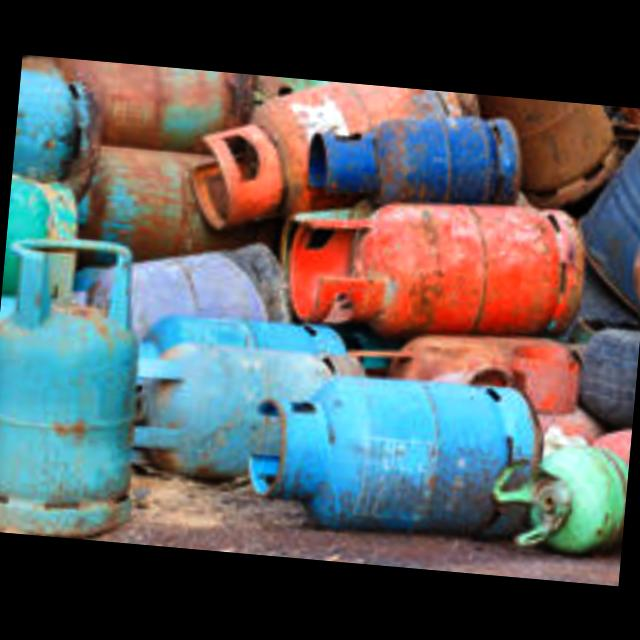Cylinders: (285, 205, 589, 334), (0, 245, 133, 537)
